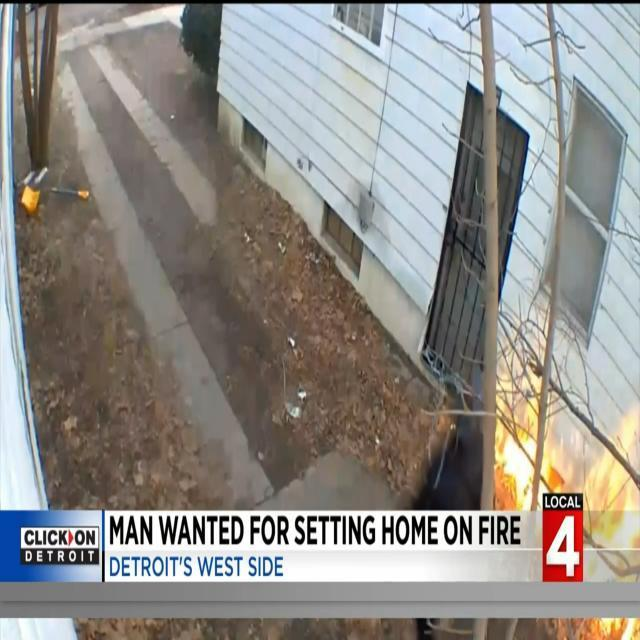Fire: (492, 412, 543, 508), (589, 423, 640, 516)
